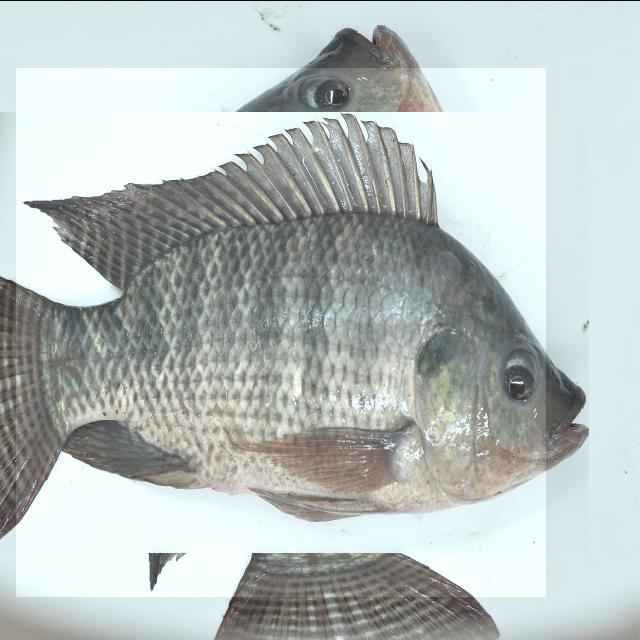Healthy Fish: (16, 67, 546, 596)
